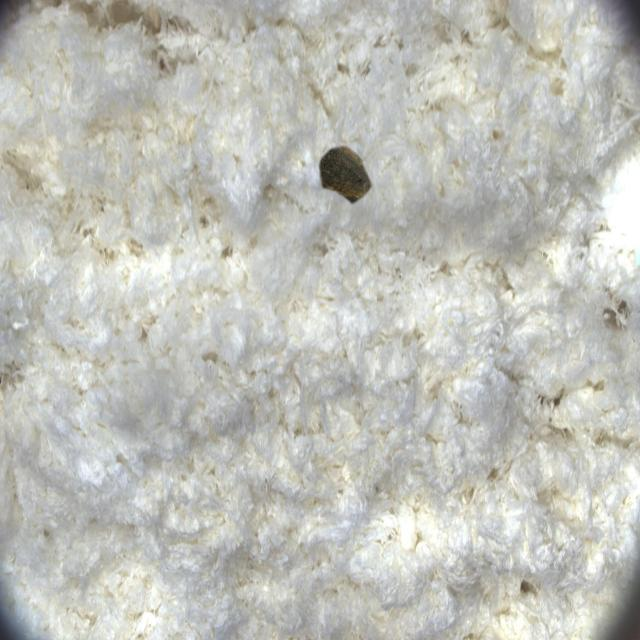dust: (305, 115, 400, 242)
